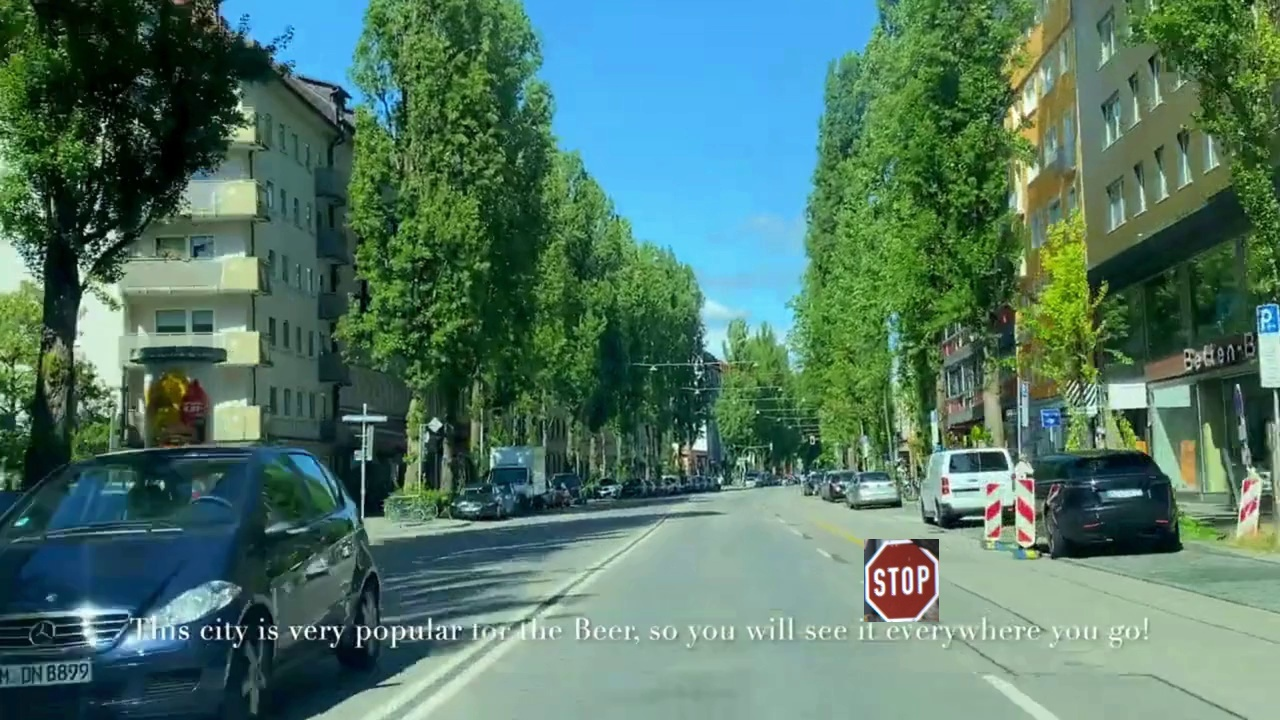Stop: (864, 539, 939, 622)
